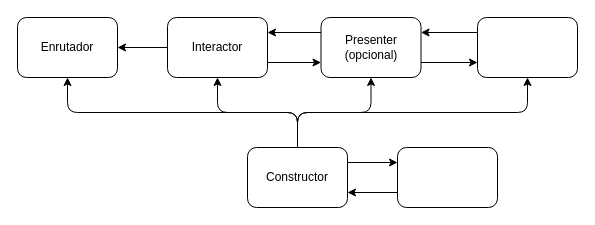
Some shapes in this 595 by 225 pixel diagram are drawn without their labels. The centre of each missing label's shape, as x and y in pixels:
"Componente" belongs at pixel 447 177.
"Vista (opcional)" belongs at pixel 527 47.
